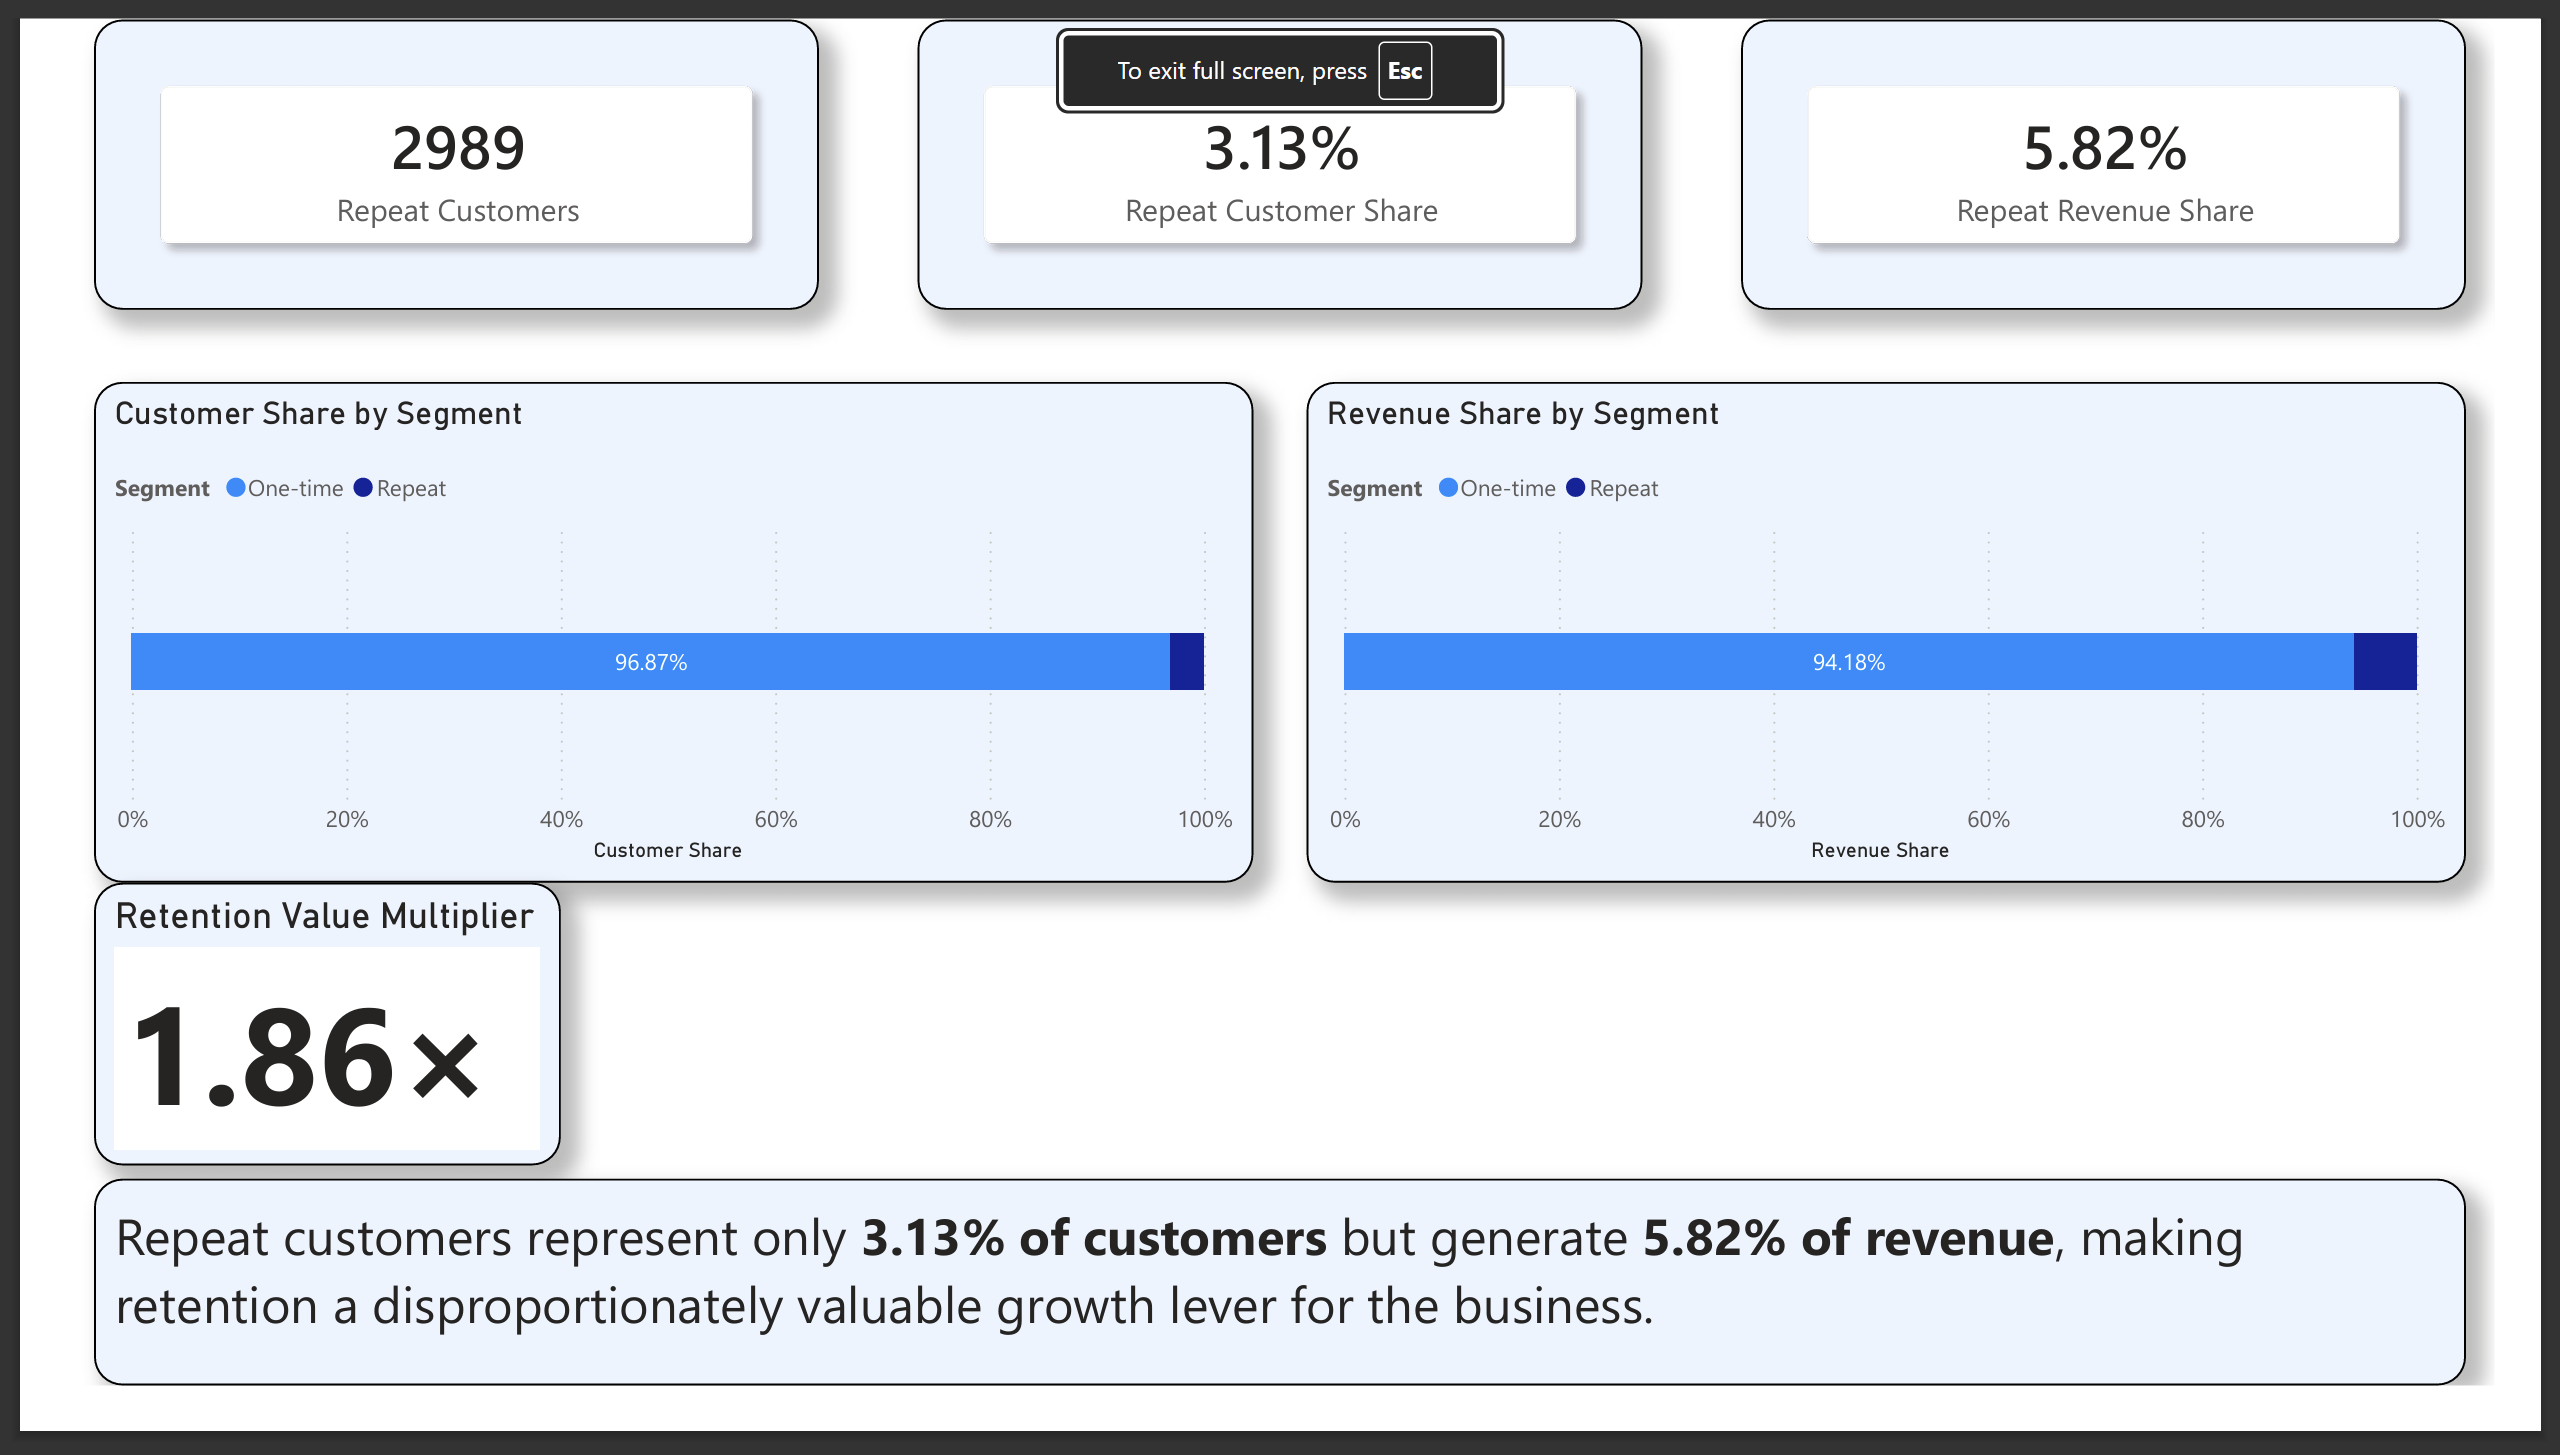

This screenshot's page, from the dashboard's own definition file:
{"tool":"powerbi","page":{"name":"Retention Value Summary","canvas":[1280,720],"ordinal":2},"visuals":[{"type":"hundredPercentStackedBarChart","fields":{"Y":["Sum(retention_value_summary.customer_count)"],"Series":["retention_value_summary.segment"]},"box":[14.9,191.5,610.6,263.8],"z":0},{"type":"hundredPercentStackedBarChart","fields":{"Y":["Sum(retention_value_summary.revenue)"],"Series":["retention_value_summary.segment"]},"box":[654.3,191.5,610.6,263.8],"z":1000},{"type":"cardVisual","fields":{"Data":["retention_value_summary.Repeat Customers"]},"box":[14.9,0,381.9,153.2],"z":2000},{"type":"cardVisual","fields":{"Data":["retention_value_summary.Repeat Customer Share"]},"box":[448.9,0,381.9,153.2],"z":3000},{"type":"cardVisual","fields":{"Data":["retention_value_summary.Repeat Revenue Share"]},"box":[883,0,381.9,153.2],"z":4000},{"type":"cardVisual","title":"Retention Value Multiplier","fields":{"Data":["retention_value_summary.Revenue Value Multiplier"]},"box":[14.9,455.3,245.7,148.9],"z":5000},{"type":"textbox","box":[14.9,610.6,1250,109.6],"z":6000},{"type":"textbox","box":[25.5,489.4,224.5,106.4],"z":7000}]}

Visuals, with their boxes in screenshot pixels (x1, y1, x2, y2), scaled from the page's 1280x720 canvas onto the 2560x1455 screenshot:
hundredPercentStackedBarChart - Sum(retention_value_summary.customer_count) x retention_value_summary.segment: [x1=30, y1=387, x2=1251, y2=920]
hundredPercentStackedBarChart - Sum(retention_value_summary.revenue) x retention_value_summary.segment: [x1=1309, y1=387, x2=2530, y2=920]
cardVisual - retention_value_summary.Repeat Customers: [x1=30, y1=0, x2=794, y2=310]
cardVisual - retention_value_summary.Repeat Customer Share: [x1=898, y1=0, x2=1662, y2=310]
cardVisual - retention_value_summary.Repeat Revenue Share: [x1=1766, y1=0, x2=2530, y2=310]
"Retention Value Multiplier" cardVisual: [x1=30, y1=920, x2=521, y2=1221]
textbox: [x1=30, y1=1234, x2=2530, y2=1454]
textbox: [x1=51, y1=989, x2=500, y2=1204]
